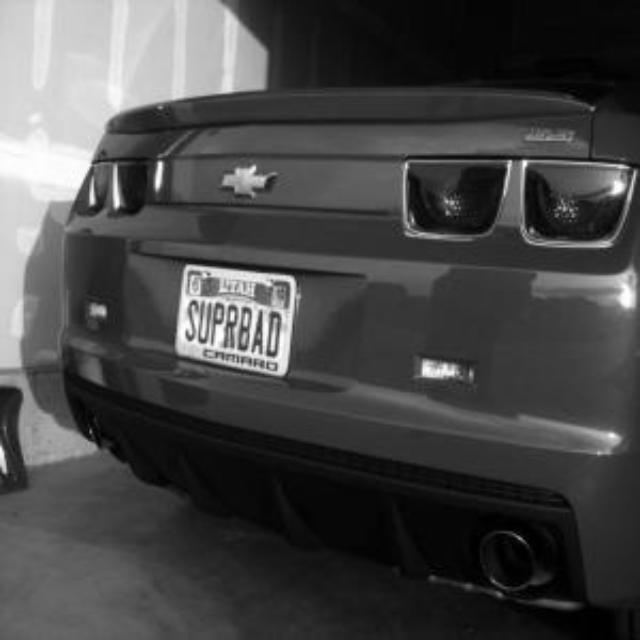License Plate: (175, 264, 296, 376)
